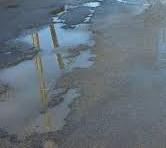pothole: (1, 5, 27, 139)
